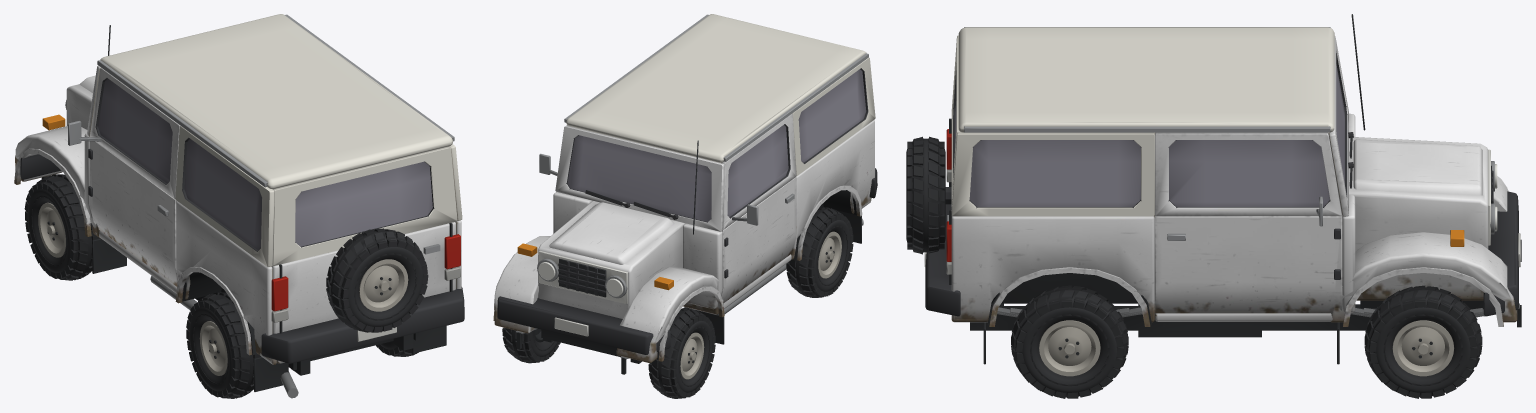
File: forty.glb
The picture shows the model from 3 angles, left to right: view 1: azimuth 30°, elevation 25°; view 2: azimuth 150°, elevation 25°; view 3: azimuth 270°, elevation 25°; orthographic projection. The views are drawn at different scales.
Visible parts, largest first — view 1: body, door_FL, wheel_FL, wheel_RL; view 2: body, door_FL, wheel_RL, wheel_FL, wheel_FR; view 3: body, door_FR, wheel_FR, wheel_RR.
Part boxes in pixels (<box>): body: <box>14,14,464,398</box>; door_FL: <box>68,68,180,286</box>; wheel_FL: <box>24,174,99,280</box>; wheel_RL: <box>186,292,261,398</box>; body: <box>493,14,877,374</box>; door_FL: <box>721,114,796,302</box>; wheel_RL: <box>786,207,853,297</box>; wheel_FL: <box>648,308,715,398</box>; wheel_FR: <box>502,327,560,363</box>; body: <box>906,14,1521,364</box>; door_FR: <box>1155,132,1342,313</box>; wheel_FR: <box>1364,285,1482,398</box>; wheel_RR: <box>1011,285,1128,398</box>.
Bounding box in the file's own units: 2.09 × 2.12 × 3.98.
17 materials, 1 textured.
